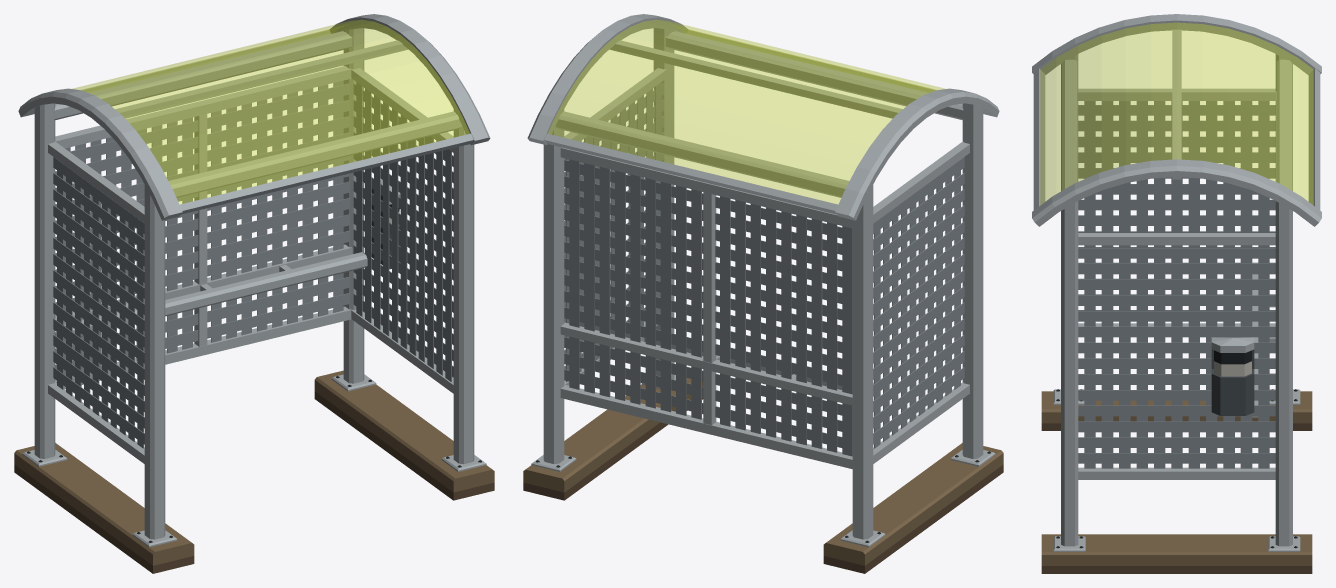
File: smoking-shelter-7e149f.glb
3 renders of one model, left to right at view 1: azimuth 30°, elevation 25°; view 2: azimuth 150°, elevation 25°; view 3: azimuth 270°, elevation 25°, orthographic. The views are drawn at different scales.
Parts seen in each view (by area): view 1: shelter, roof-sheet; view 2: shelter, roof-sheet; view 3: shelter, roof-sheet, bin.
Boxes of the visible parts, bbox=[...] form: shelter: bbox=[14, 14, 494, 573]; roof-sheet: bbox=[73, 20, 469, 204]; shelter: bbox=[523, 14, 1003, 573]; roof-sheet: bbox=[548, 20, 944, 204]; shelter: bbox=[1032, 14, 1321, 573]; roof-sheet: bbox=[1040, 23, 1313, 204]; bin: bbox=[1211, 337, 1254, 415].
Size of the model in its own units: 1.99 by 2.3 by 1.5.
